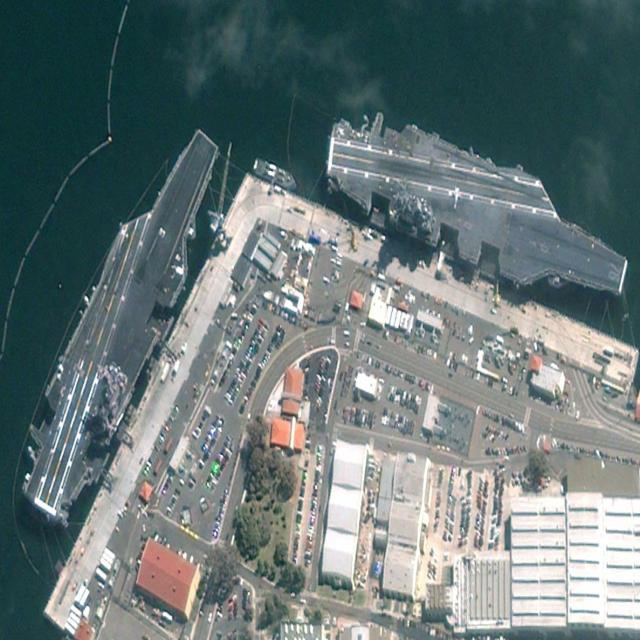Aircraft Carrier: (316, 93, 636, 323)
Other Ship: (5, 104, 239, 536)
Other Warship: (252, 157, 299, 194)
